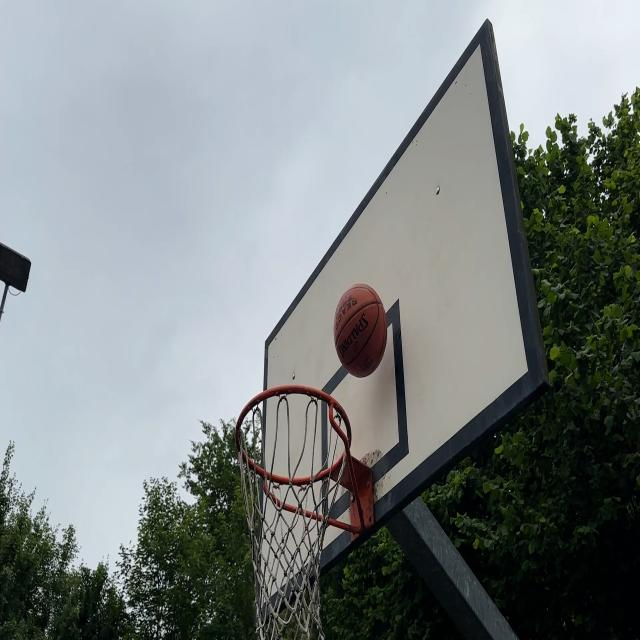Basketball: (335, 283, 390, 376)
